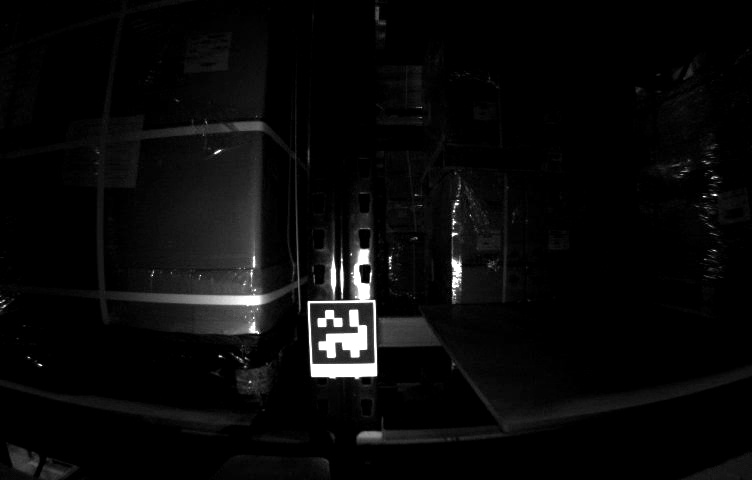True Barcode: (188, 36, 229, 71)
